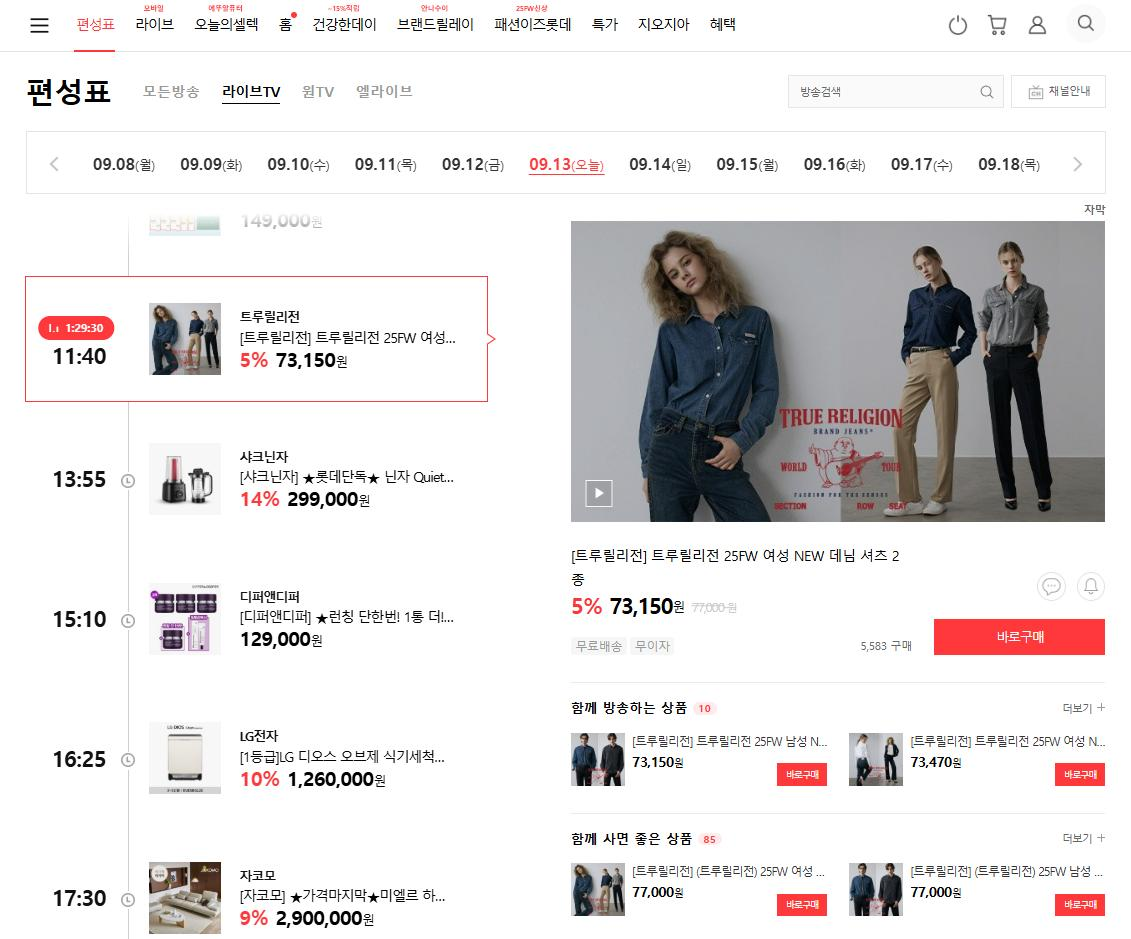button: (929, 609, 1114, 654), (223, 59, 301, 110), (396, 0, 479, 39), (436, 146, 533, 179), (504, 3, 584, 40), (524, 150, 610, 181), (316, 1, 389, 37), (140, 74, 213, 110), (1013, 76, 1103, 104), (786, 153, 879, 180), (341, 149, 430, 177), (194, 3, 263, 39), (634, 144, 700, 177), (720, 150, 796, 177), (69, 4, 124, 41), (363, 73, 421, 107), (74, 149, 154, 173), (306, 69, 356, 107), (263, 147, 326, 177), (173, 150, 240, 177), (133, 7, 181, 40), (891, 149, 957, 173), (1054, 894, 1110, 921), (1056, 760, 1111, 786), (780, 891, 831, 916), (594, 4, 633, 36), (779, 759, 834, 781), (933, 14, 973, 40), (641, 9, 684, 33), (977, 10, 1016, 36), (989, 156, 1043, 174), (1027, 9, 1059, 39), (279, 7, 307, 40), (700, 7, 739, 30), (1073, 16, 1114, 37), (587, 480, 627, 501), (1076, 574, 1103, 594), (1040, 571, 1061, 594), (1067, 160, 1091, 176), (56, 151, 69, 164)
